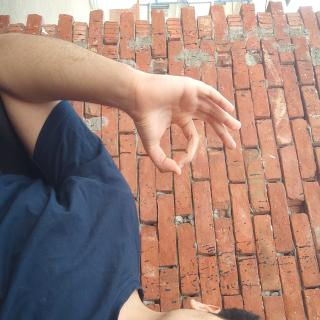Space: (41, 101, 144, 259)
